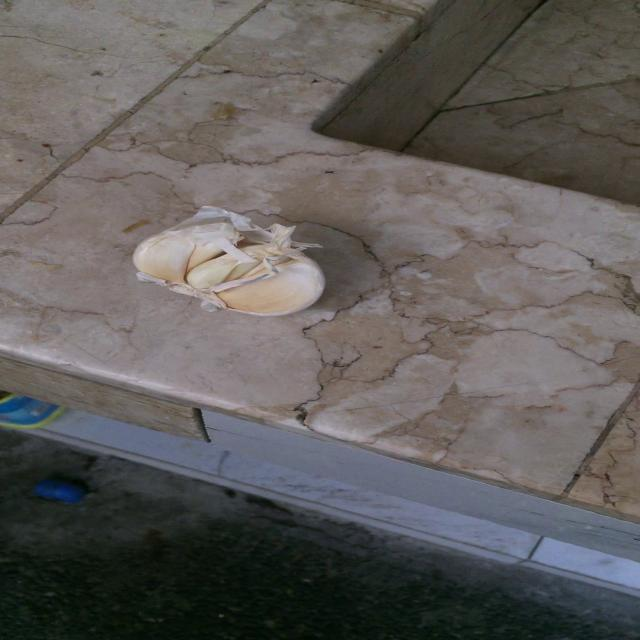garlic: (127, 204, 336, 318)
